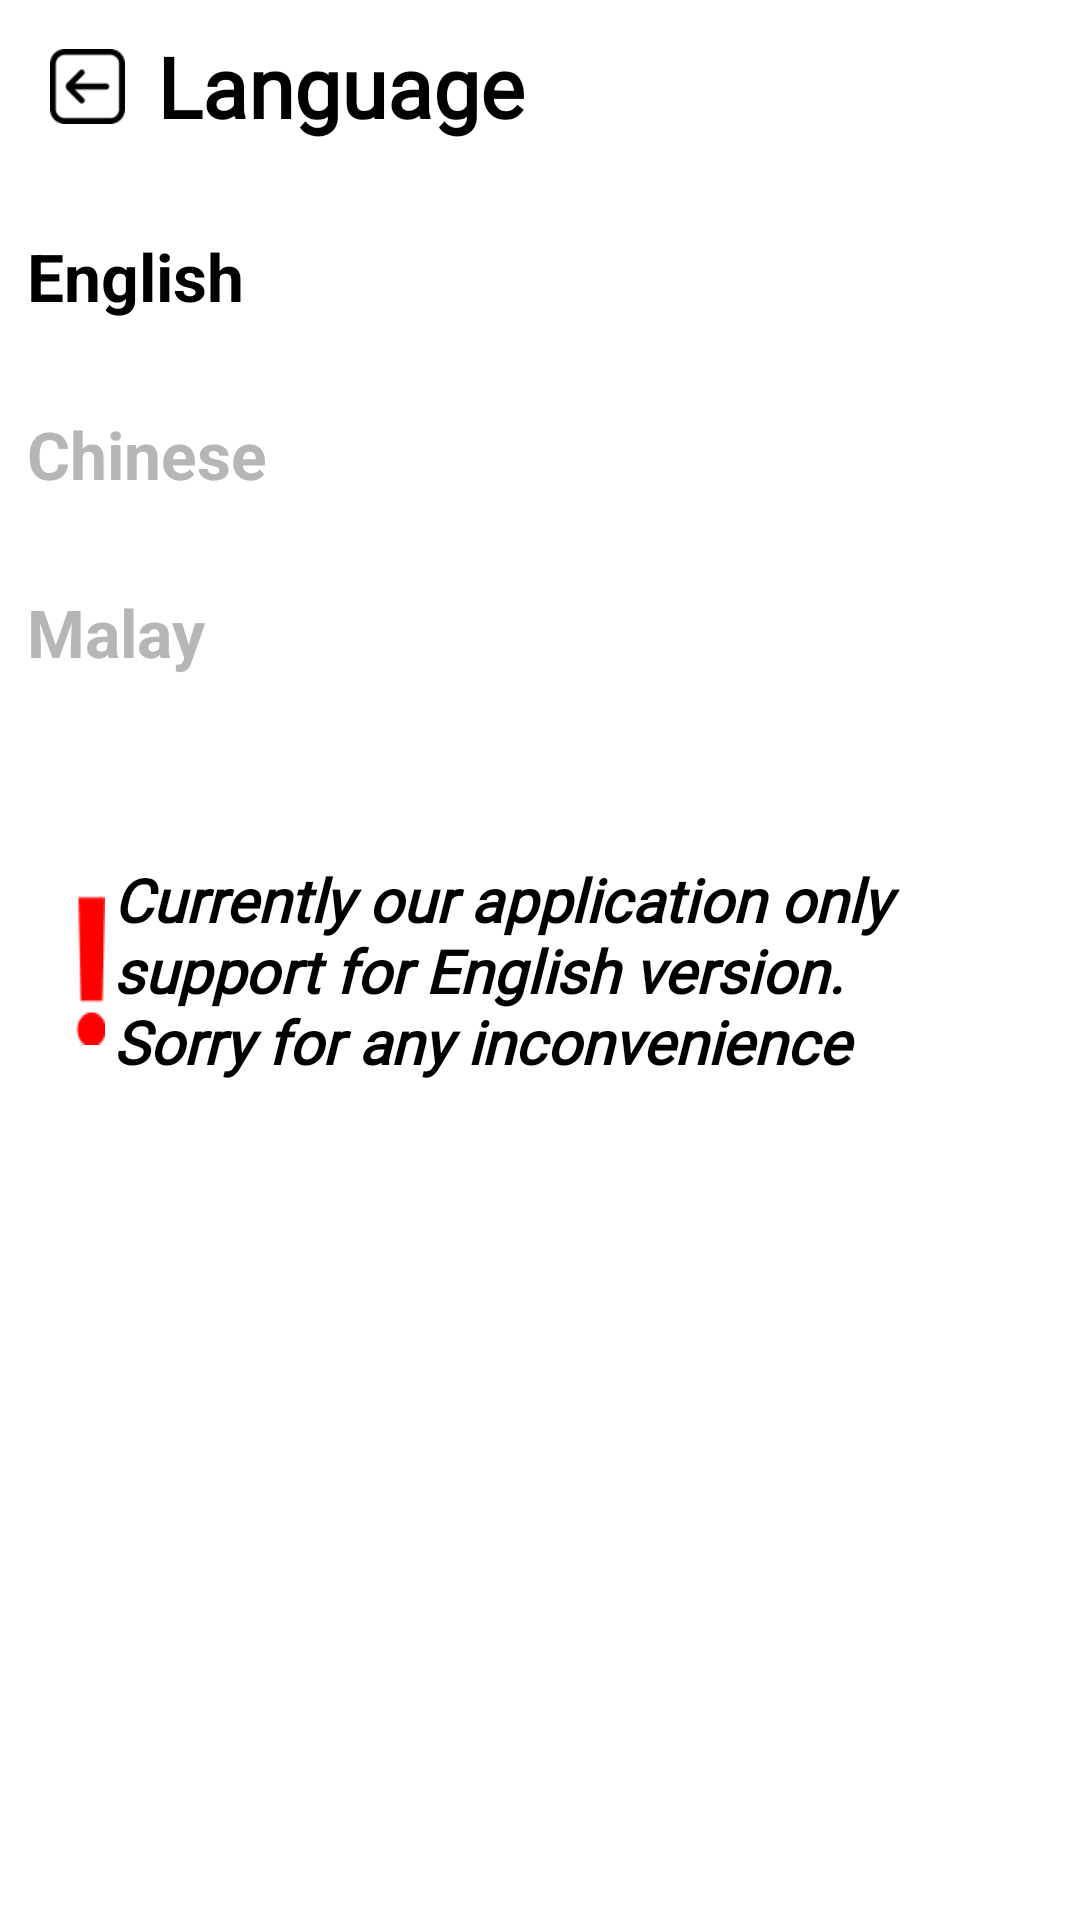

Point at icon controls on the screen. Image size 1080×1920, points as (x,y).
back: (87,86)
exclamation mark: (90,970)
